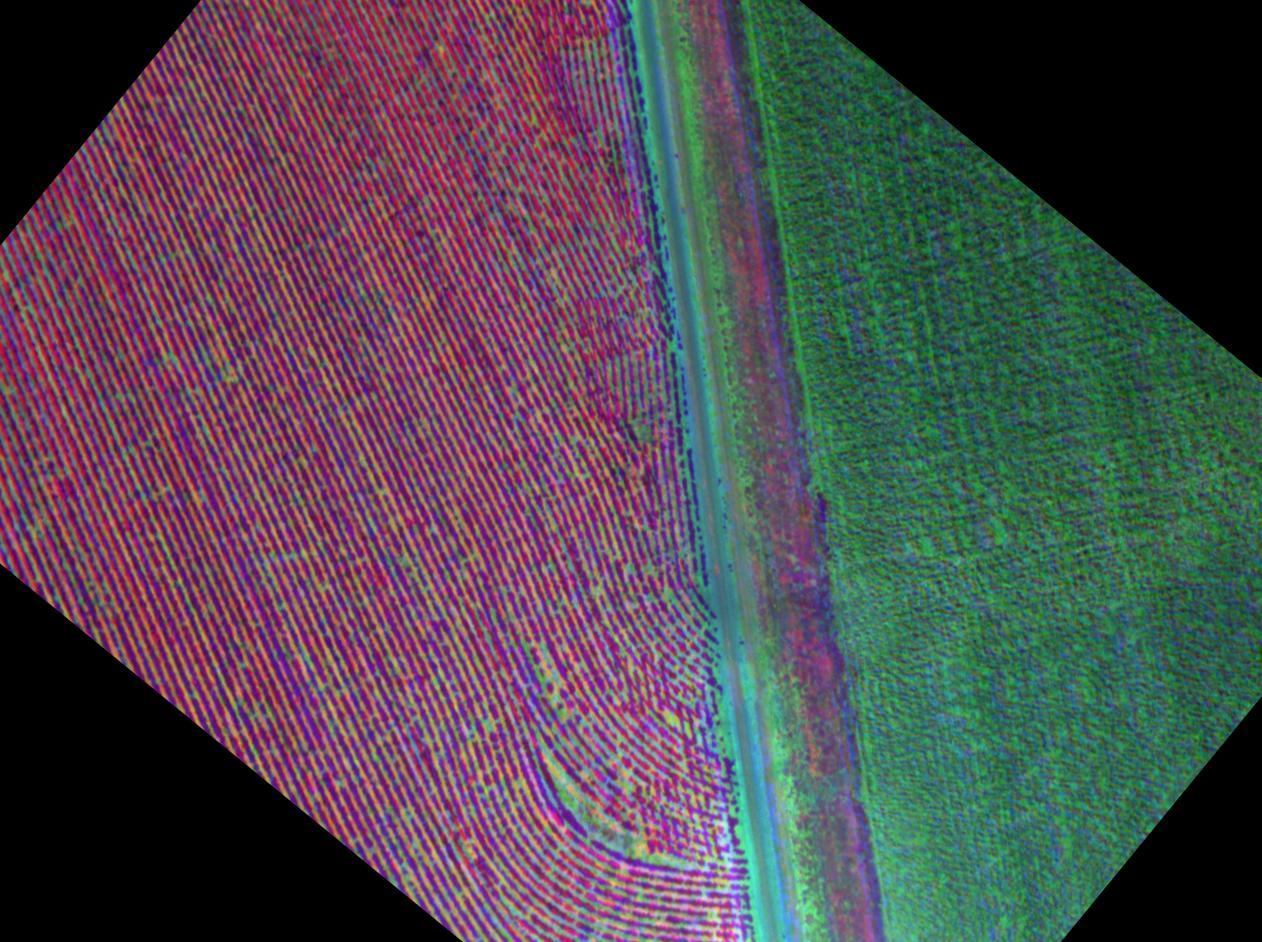dc: (523, 730, 647, 871), (518, 643, 590, 725), (23, 463, 75, 531), (128, 343, 185, 404), (663, 848, 713, 911)
